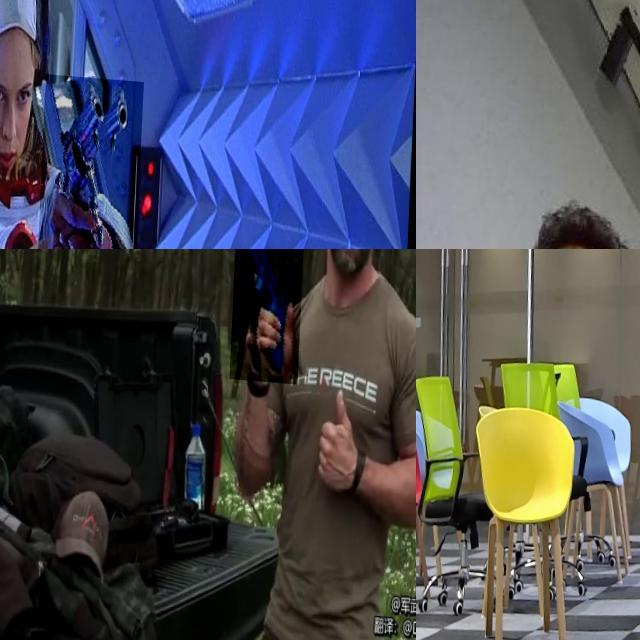gun-knife-thesis - v11 Yolov5 augmented: (38, 69, 146, 249), (232, 249, 306, 377)
